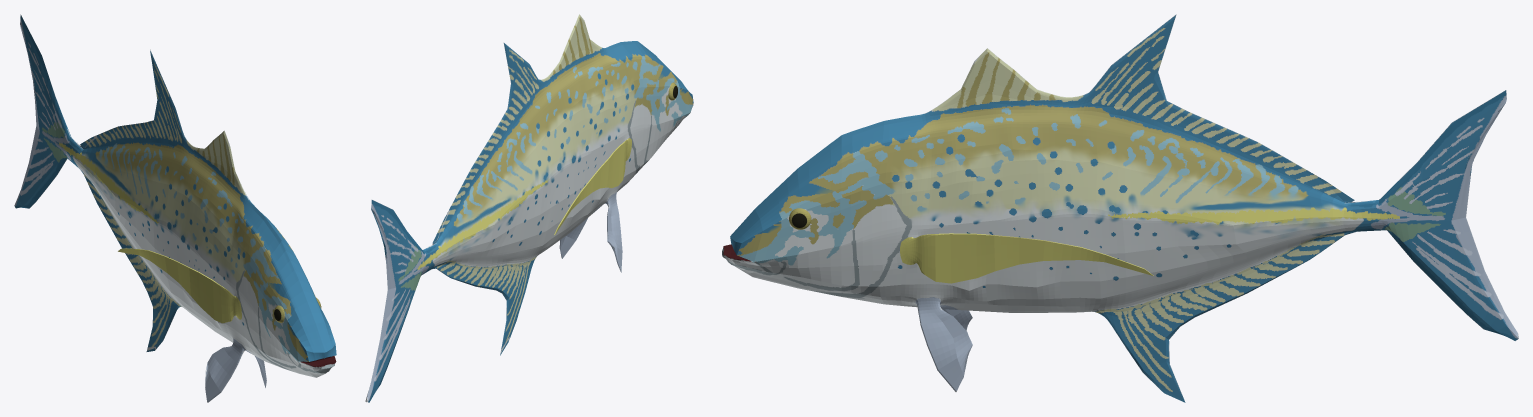
Rendered from trevally_v2.fbx.
3 views of the same model, side by side, from view 1: azimuth 30°, elevation 25°; view 2: azimuth 150°, elevation 25°; view 3: azimuth 270°, elevation 25° (orthographic). The views are drawn at different scales.
Parts seen in each view (by area): view 1: Cube; view 2: Cube; view 3: Cube.
Part boxes in pixels (x1,y1,x2,y2): Cube: (14, 14, 336, 402); Cube: (365, 14, 693, 402); Cube: (722, 14, 1518, 402).
Size of the model in its own units: 0.6166 by 2.16 by 4.
2 materials, 2 textured.
